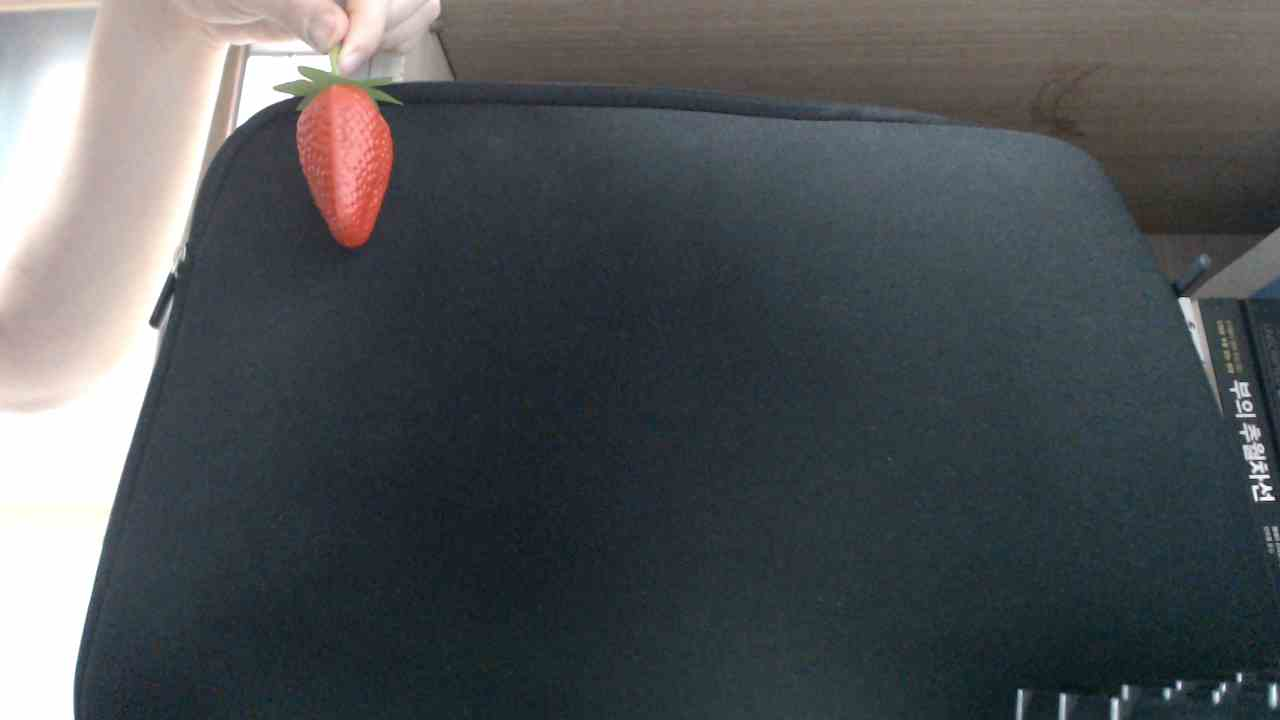strawberry: (274, 70, 403, 252)
